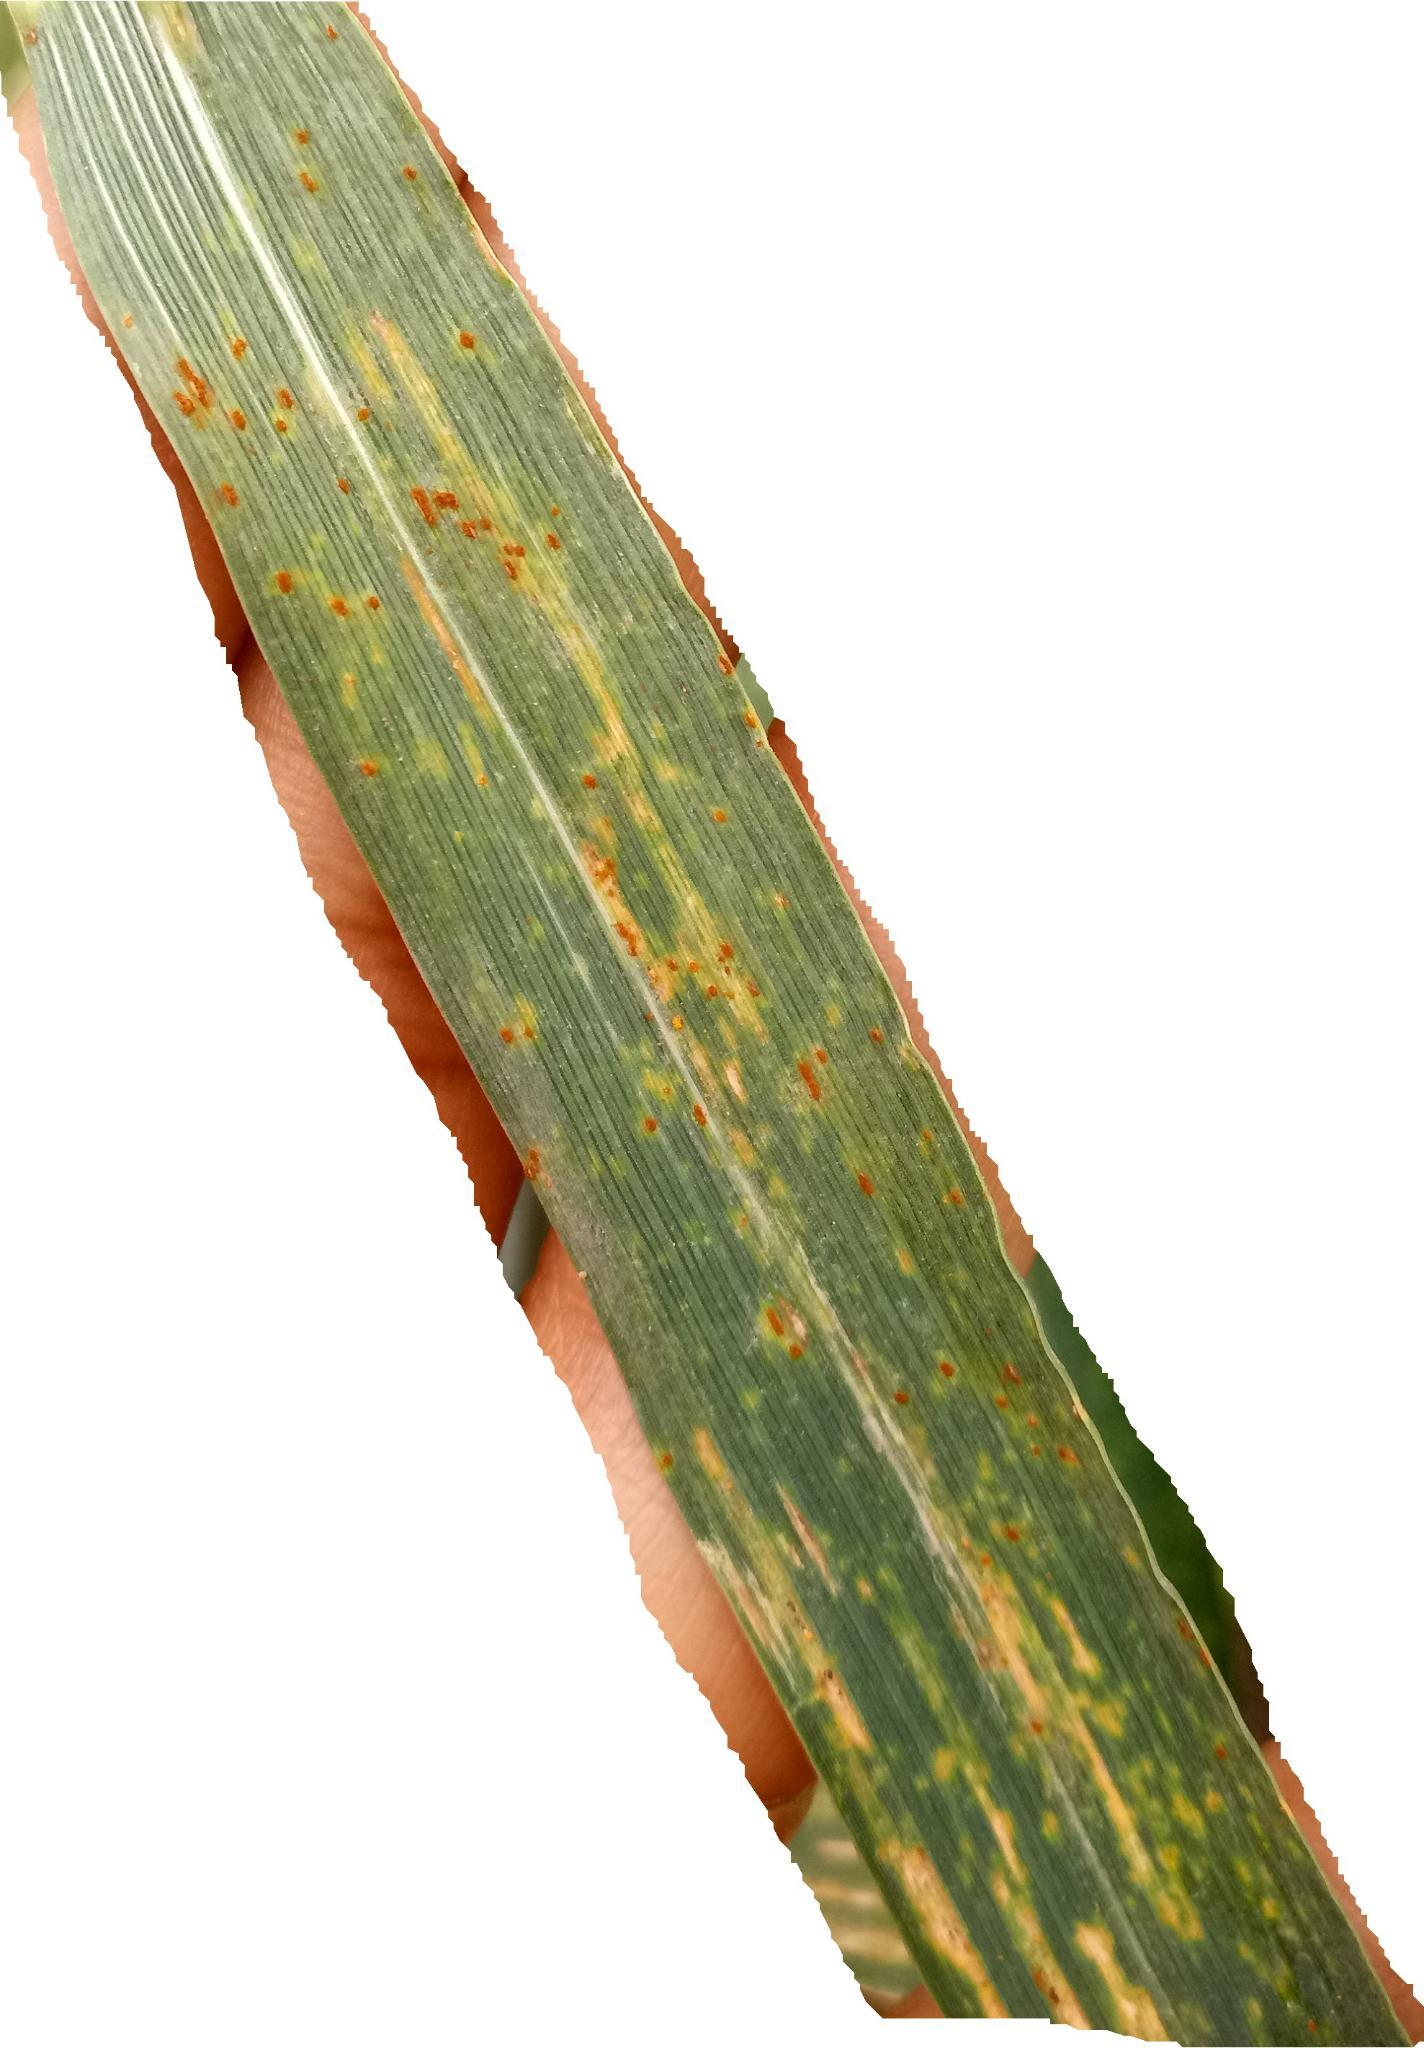Corn: (131, 96, 1044, 1604)
